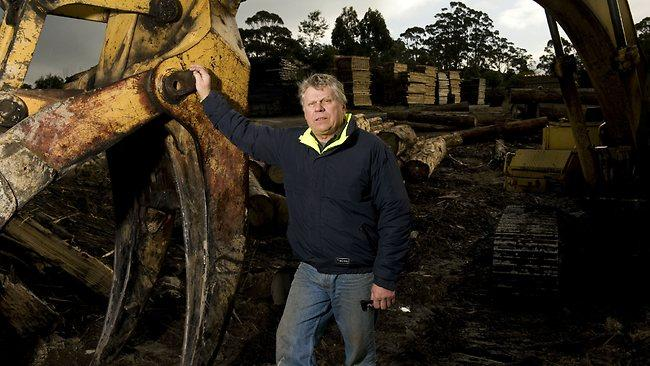noepi: (180, 60, 411, 365)
